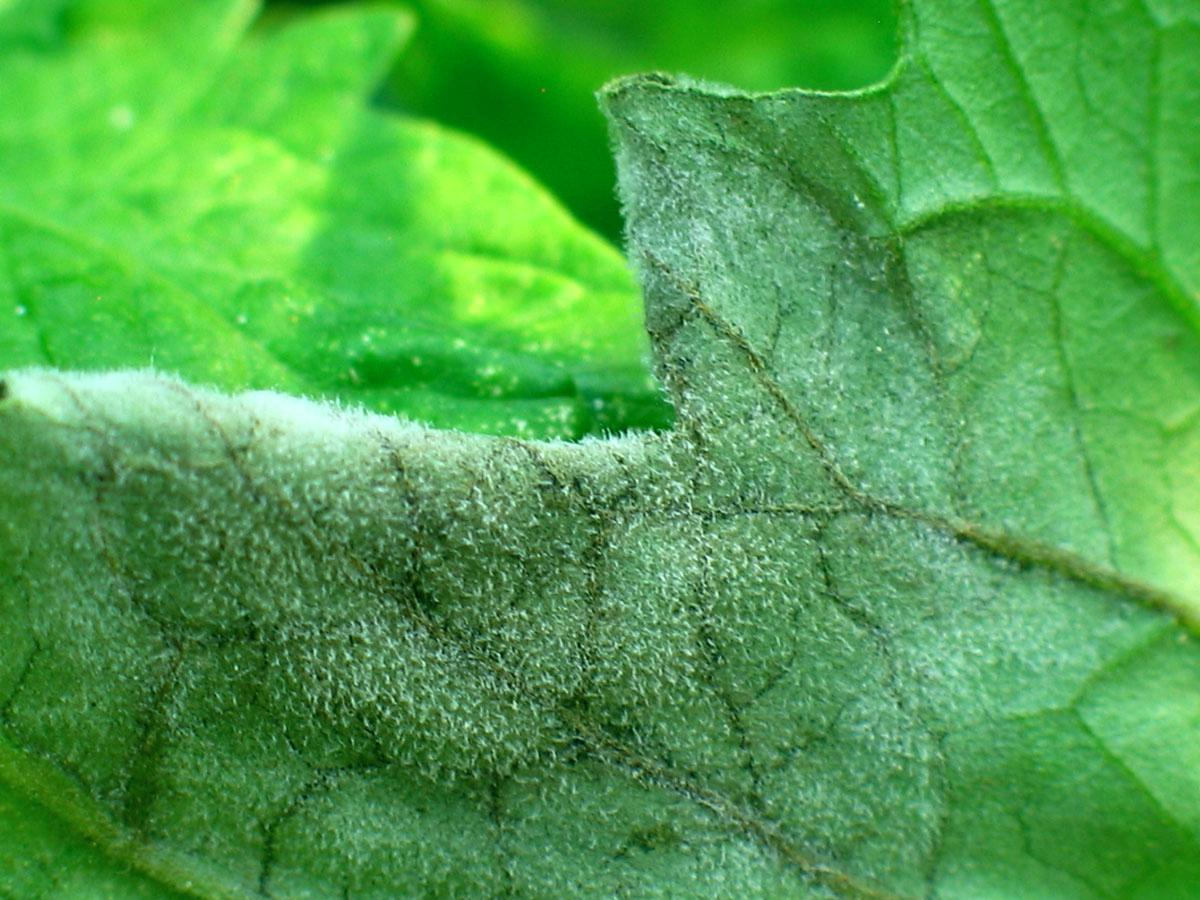Tomato leaf late blight: (0, 8, 1186, 900)
